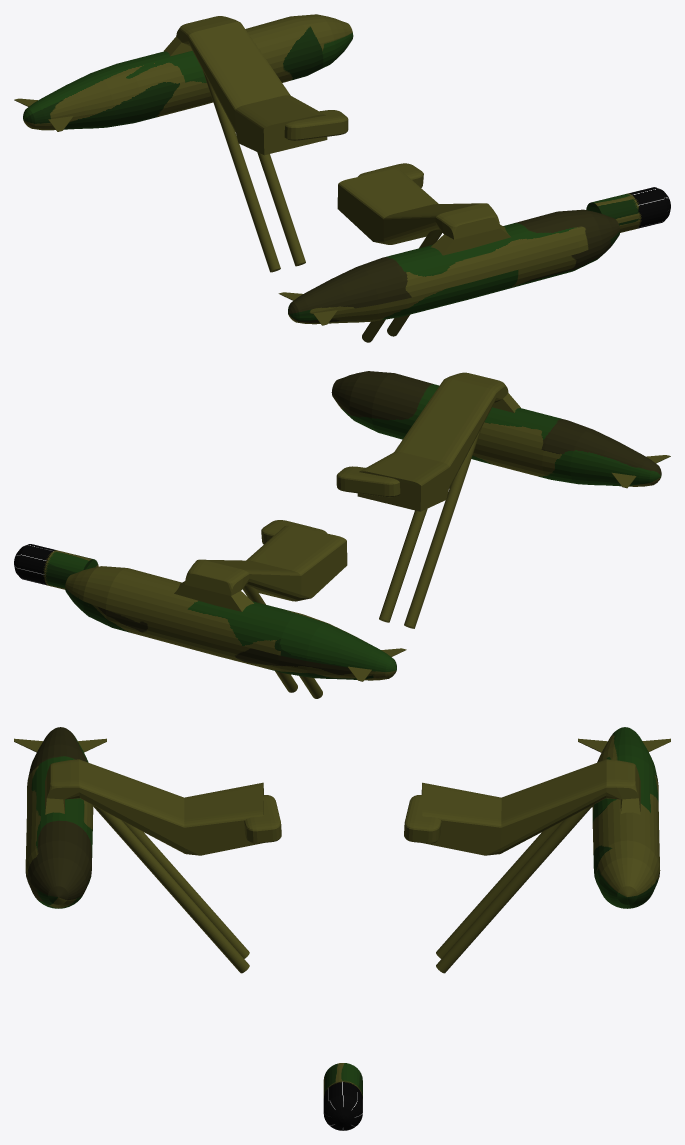
Rendered from JGSDFUH60.glb.
The picture shows the model from 3 angles, top to bottom: view 1: azimuth 30°, elevation 25°; view 2: azimuth 150°, elevation 25°; view 3: azimuth 270°, elevation 25°; orthographic projection. The views are drawn at different scales.
Parts seen in each view (by area): view 1: 円柱.003; view 2: 円柱.003; view 3: 円柱.003.
Part boxes in pixels (x1=…): 円柱.003: x1=14, y1=14, x2=670, y2=342; 円柱.003: x1=14, y1=371, x2=670, y2=698; 円柱.003: x1=14, y1=727, x2=670, y2=1130.
Bounding box in the file's own units: 5.22 × 1.8 × 5.42.
1 material, 1 textured.
